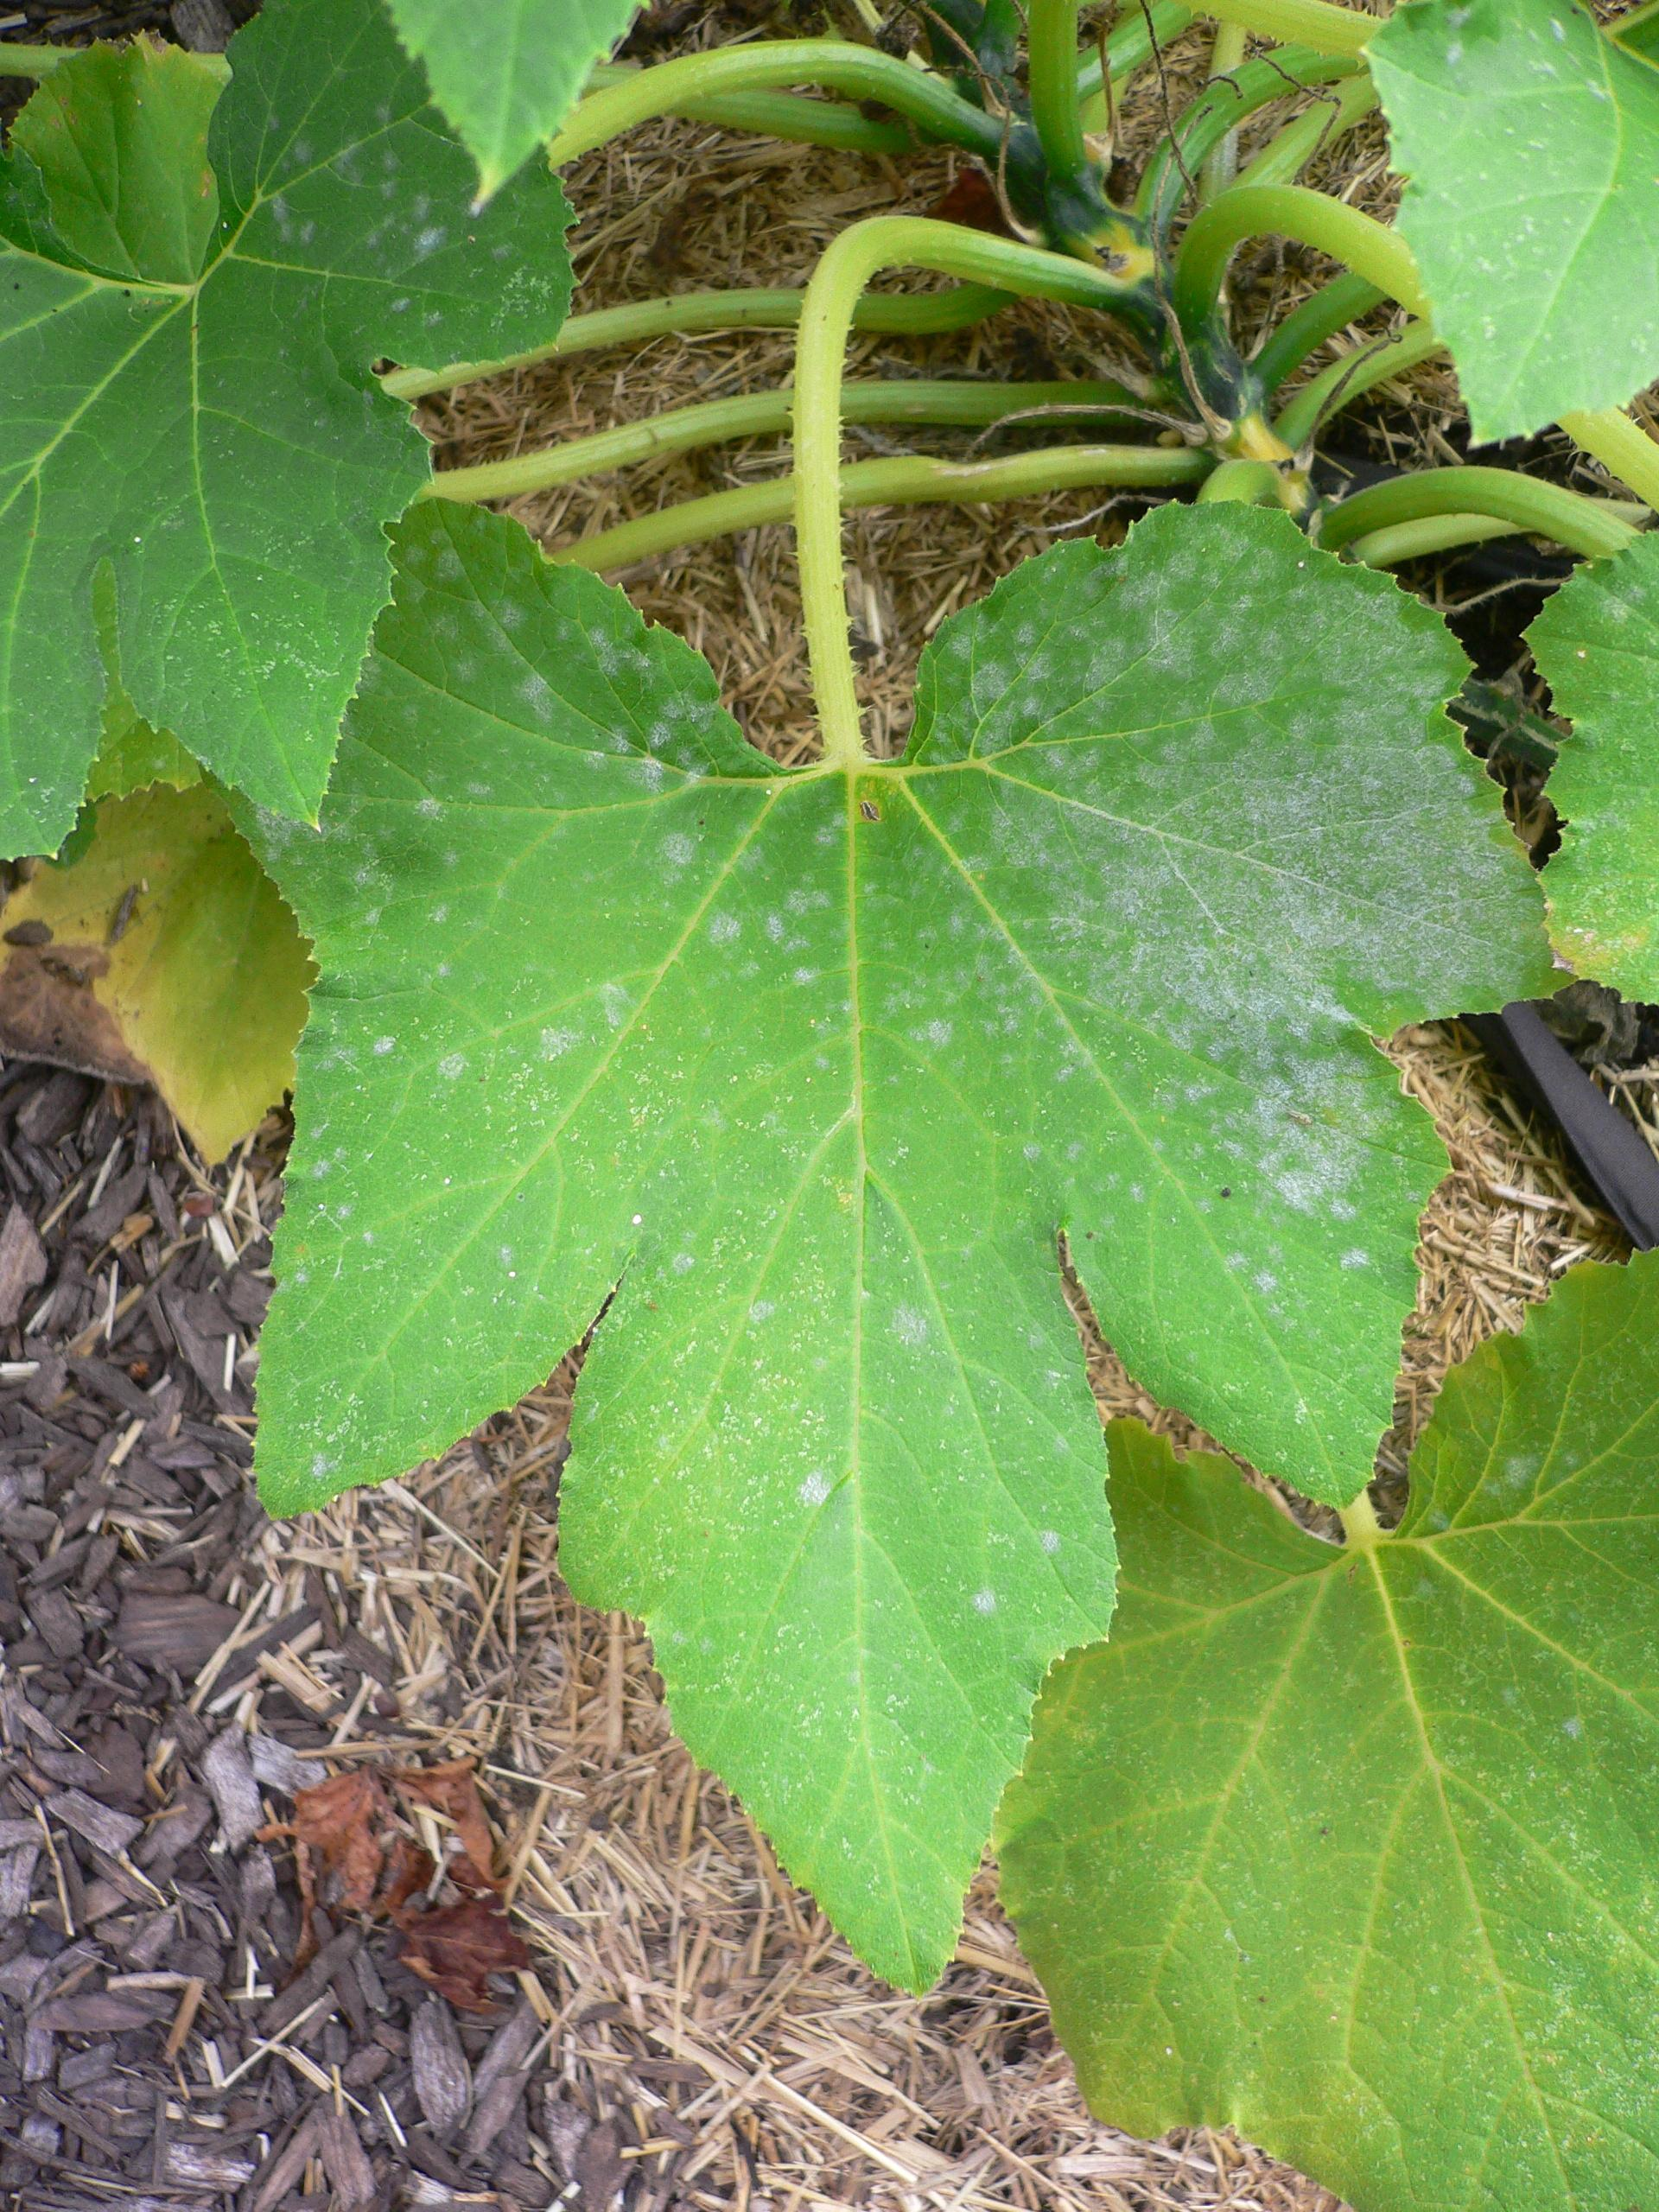Squash Powdery mildew leaf: (218, 467, 1568, 1980)
